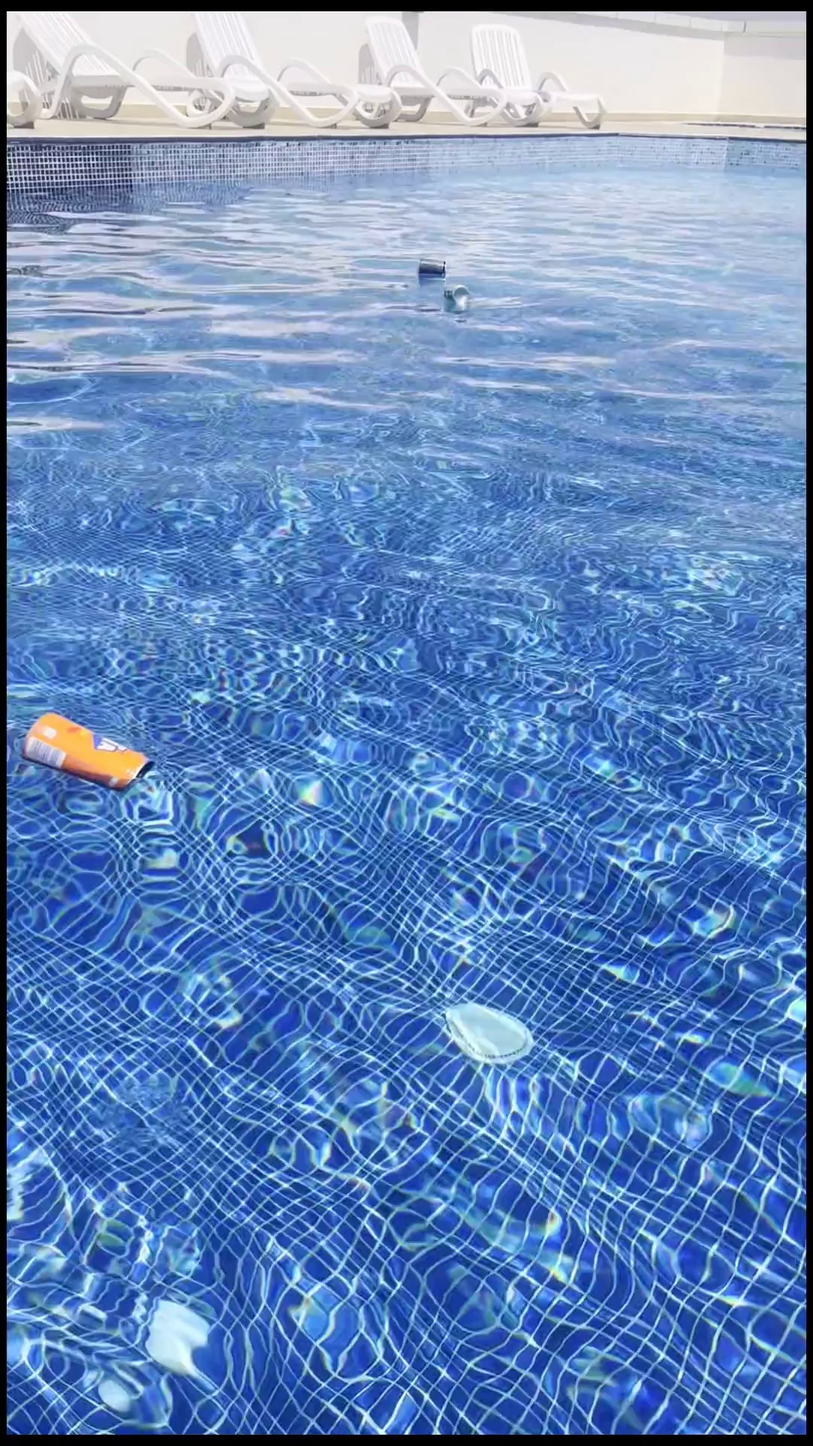debris: (21, 679, 157, 825), (437, 274, 470, 325), (416, 245, 446, 286)
